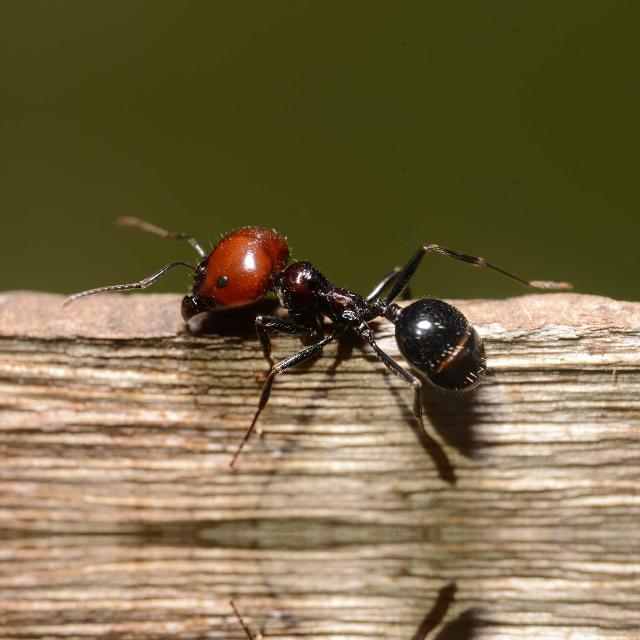Messor: (173, 223, 532, 411)
